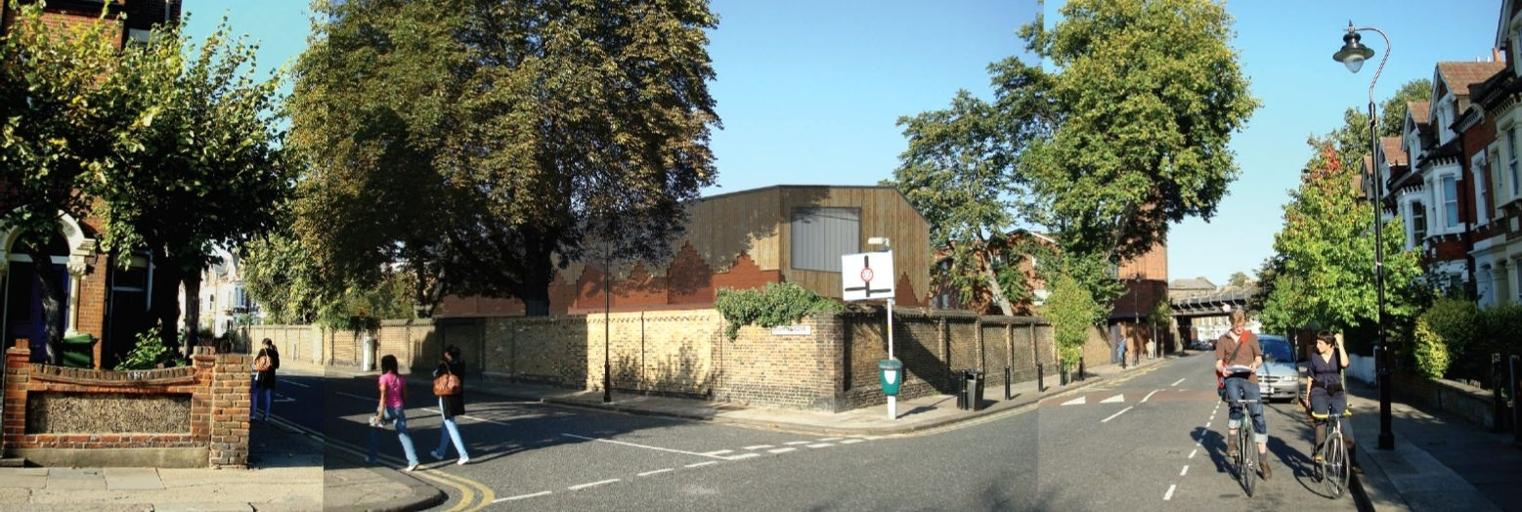non-vehicle: (1223, 385, 1269, 497), (1305, 397, 1353, 499)
